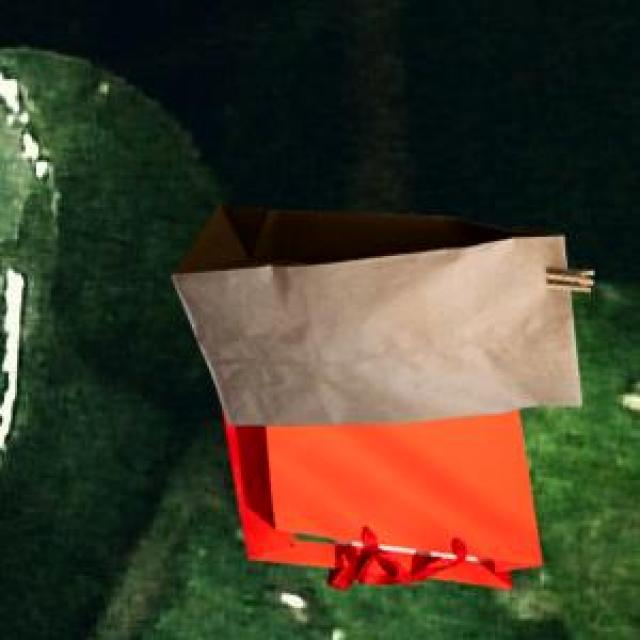Paper_Bag: (170, 204, 590, 422), (223, 406, 539, 588)
